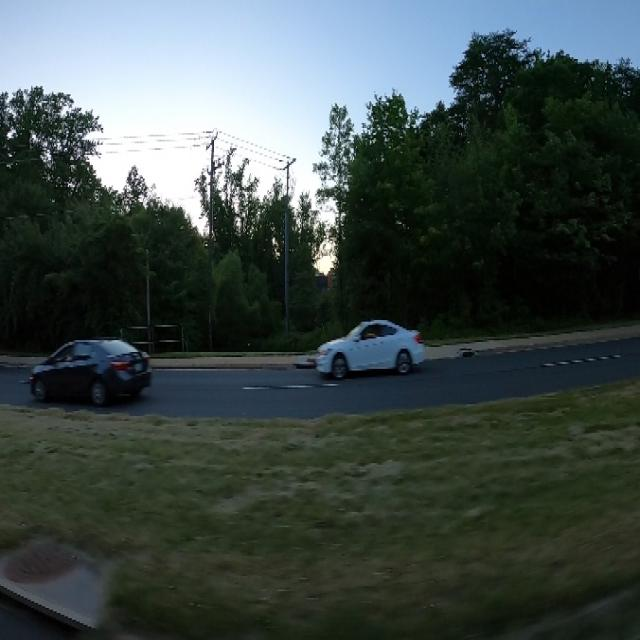cars: (14, 323, 153, 418), (306, 302, 429, 390)
